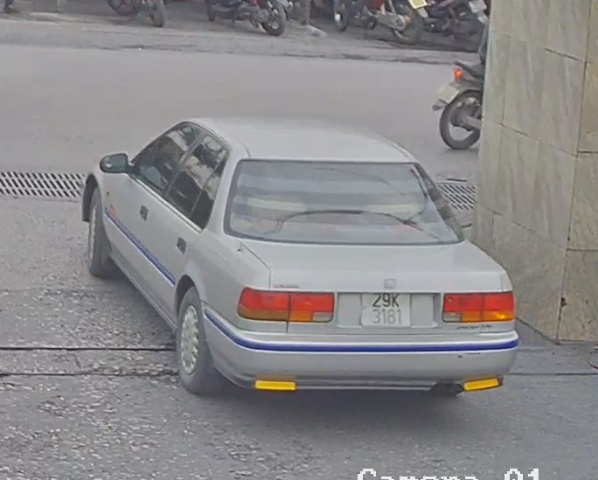vehicle plate: (359, 289, 413, 330)
